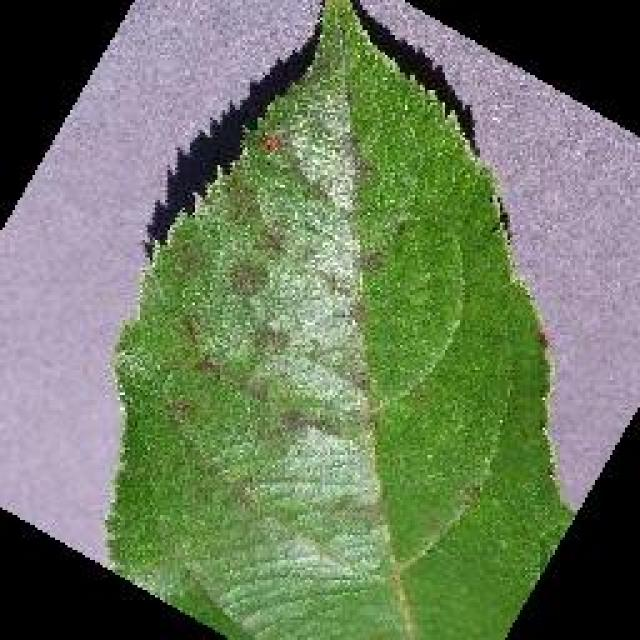apple scab disease: (100, 0, 580, 638)
